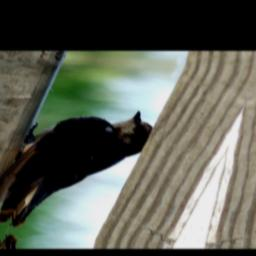Swallow: (0, 99, 160, 237)
